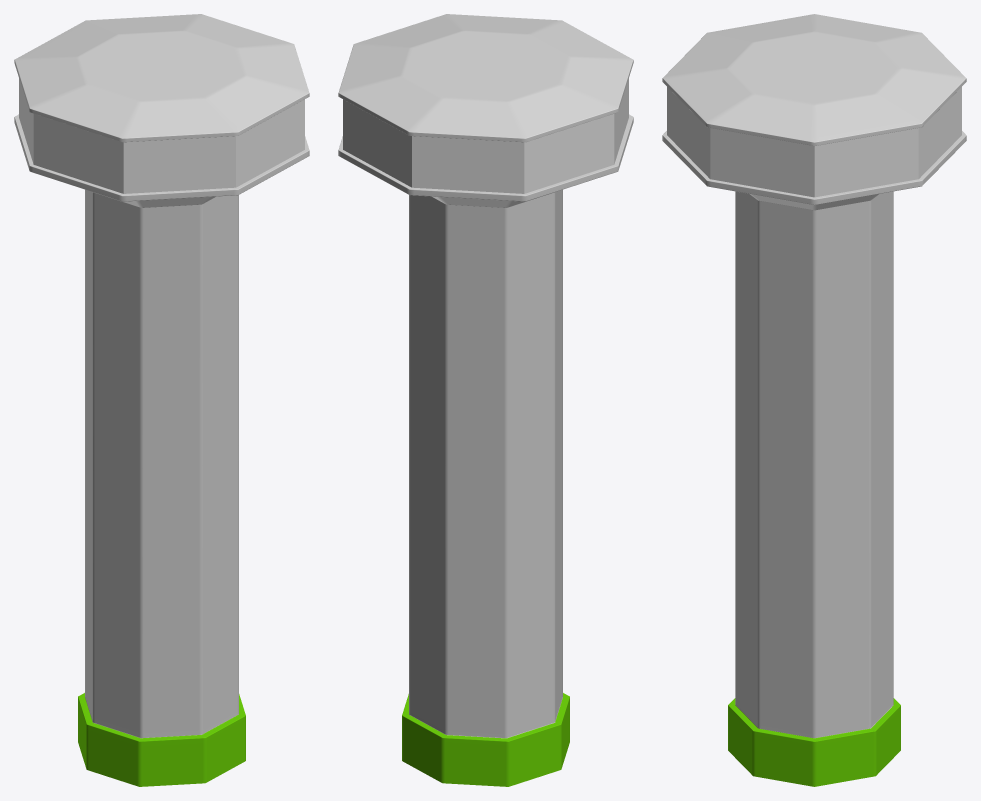
Rendered from ControlTower.fbx.
The picture shows the model from 3 angles, left to right: view 1: azimuth 30°, elevation 25°; view 2: azimuth 150°, elevation 25°; view 3: azimuth 270°, elevation 25°; orthographic projection.
Parts seen in each view (by area): view 1: ControlTower, ControlTowerGlass; view 2: ControlTower, ControlTowerGlass; view 3: ControlTower, ControlTowerGlass.
Boxes of the visible parts, box(x1,y1,x2,y2) form: ControlTower: box(14, 14, 309, 786); ControlTowerGlass: box(19, 78, 304, 193); ControlTower: box(338, 14, 633, 786); ControlTowerGlass: box(343, 78, 628, 193); ControlTower: box(662, 14, 966, 786); ControlTowerGlass: box(667, 87, 961, 197).
Size of what is drawn, in the model's own units: 1404 by 3470 by 1404.
